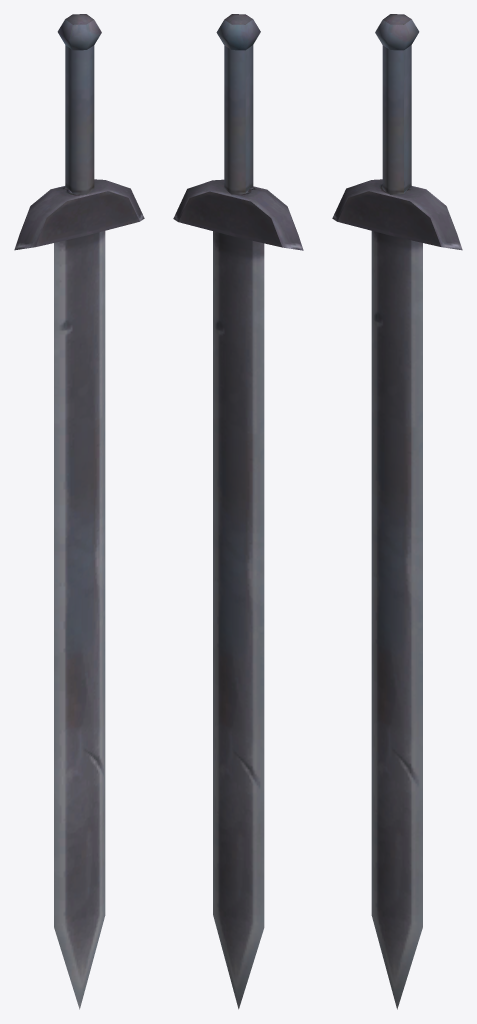
File: Homeworld_Interior_Md_Walldecoration_Sword_01_Vo.fbx
3 renders of one model, left to right at view 1: azimuth 30°, elevation 25°; view 2: azimuth 150°, elevation 25°; view 3: azimuth 330°, elevation 25°, orthographic.
Visible parts, largest first — view 1: Area_ManorProps_Sword01_Vo; view 2: Area_ManorProps_Sword01_Vo; view 3: Area_ManorProps_Sword01_Vo.
Boxes of the visible parts, left/top/right/bottom form: Area_ManorProps_Sword01_Vo: left=14, top=14, right=144, bottom=1009; Area_ManorProps_Sword01_Vo: left=173, top=14, right=303, bottom=1009; Area_ManorProps_Sword01_Vo: left=332, top=14, right=462, bottom=1009.
Size of the model in its own units: 0.1399 by 1.02 by 0.0396.
